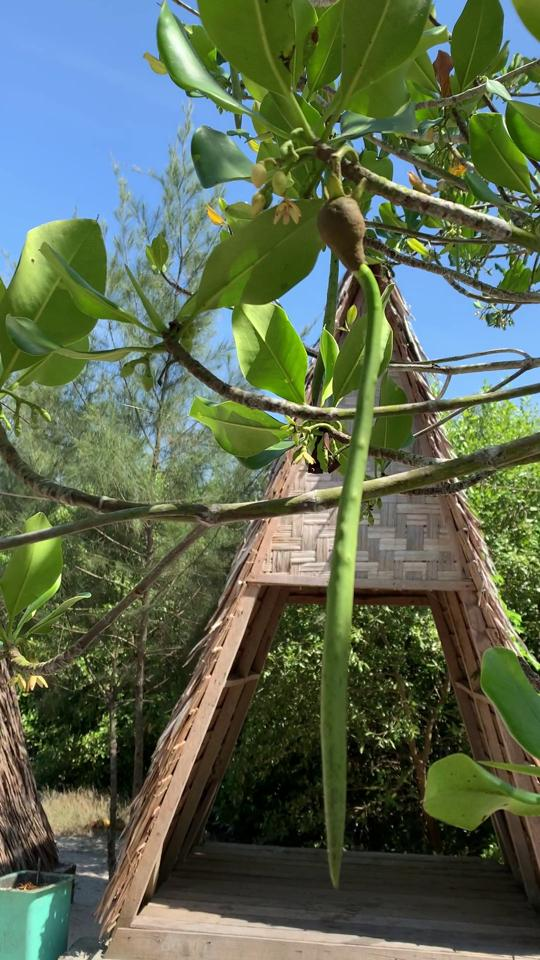setengah matang: (291, 156, 398, 901)
